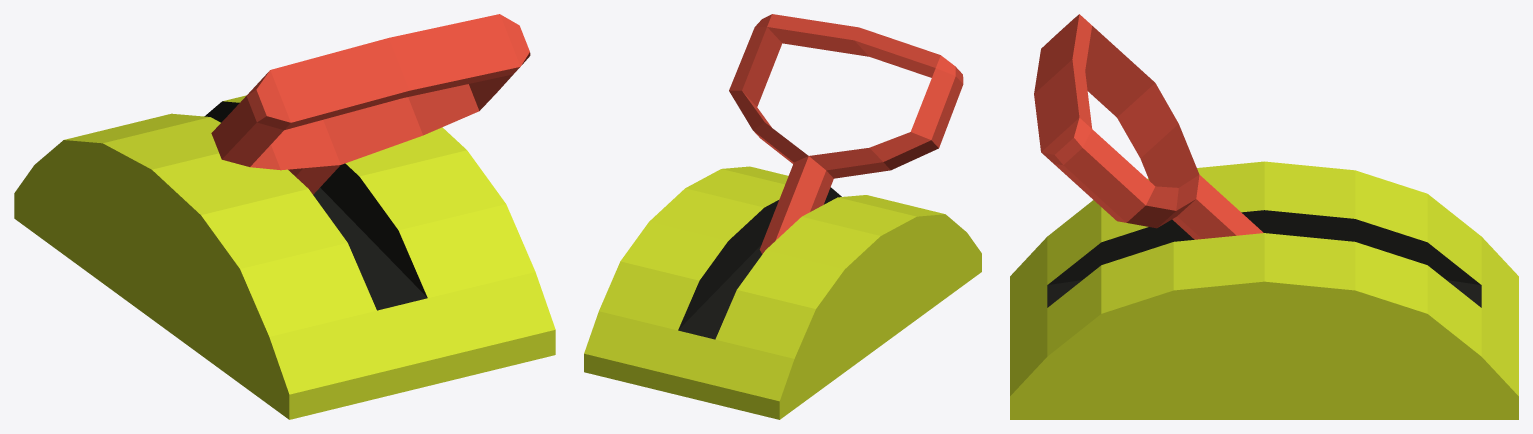
The model's file is button_toggle.fbx.
The picture shows the model from 3 angles, left to right: view 1: azimuth 30°, elevation 25°; view 2: azimuth 150°, elevation 25°; view 3: azimuth 270°, elevation 25°; orthographic projection. The views are drawn at different scales.
Parts seen in each view (by area): view 1: Lever Base, Lever; view 2: Lever Base, Lever; view 3: Lever Base, Lever.
Part boxes in pixels (x1,y1,x2,y2): Lever Base: (14,95,555,419); Lever: (211,14,530,194); Lever Base: (584,166,981,419); Lever: (729,14,963,254); Lever Base: (1010,161,1518,419); Lever: (1034,14,1263,239).
Bounding box in the file's own units: 0.2038 × 0.3524 × 0.2296.
